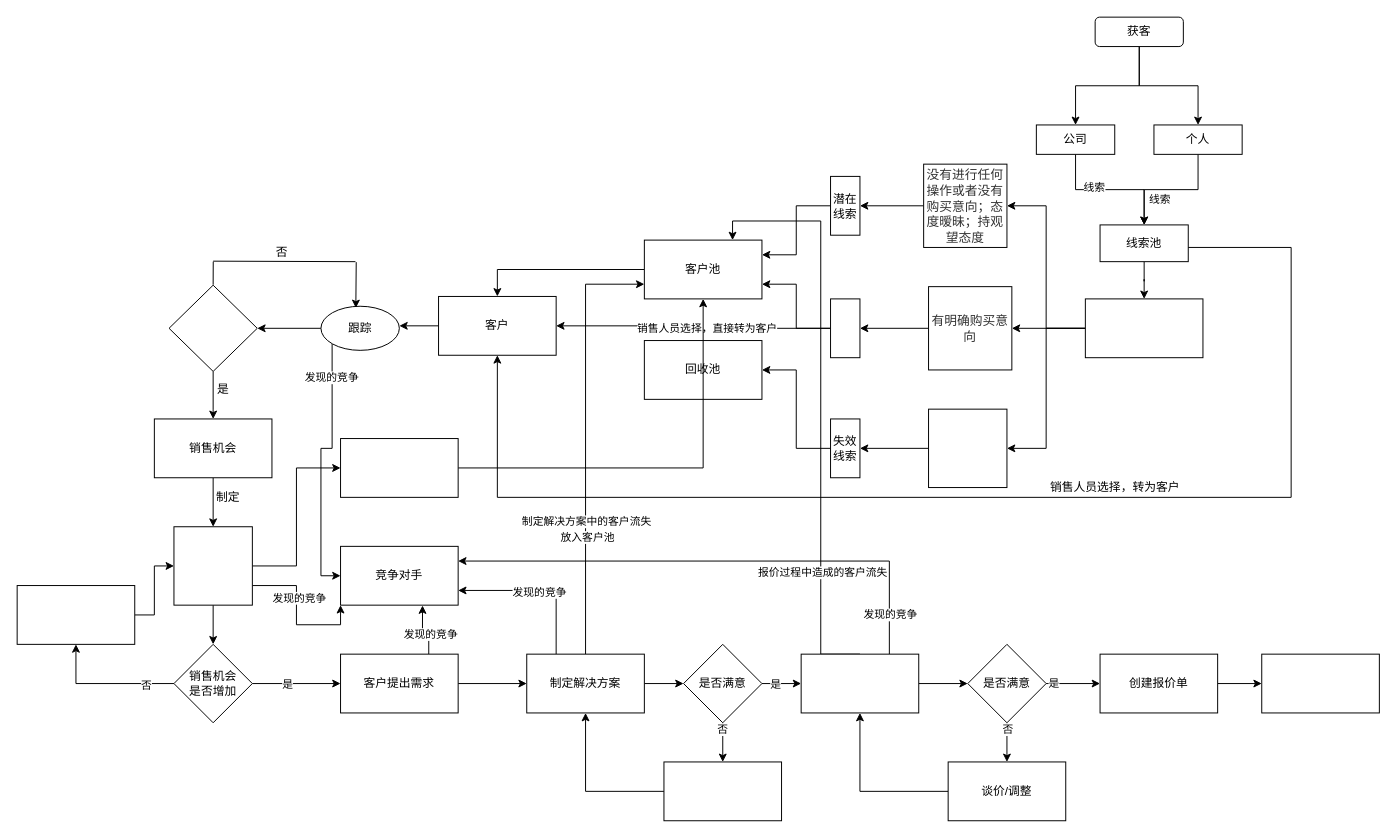
The diagram is 1397 pixels wide and 838 high, and some of its shapes have lost their labels. The shapes that lost their labels are listed below. From the top down, each one's centre as x and y in pixels, then its label:
At point (212, 327): "是否有购买意向".
At point (845, 328): "明确线索".
At point (1143, 328): "客户信息维护 （电话/短信确认）".
At point (399, 467): "客户关怀期间所造成的客户流失".
At point (967, 448): "使用错误信息或者明确拒绝的客户".
At point (212, 565): "客户关怀".
At point (75, 614): "统计分析计划 及时做出调整".
At point (859, 683): "客户报价".
At point (1320, 683): "售中".
At point (722, 791): "调整方案".
